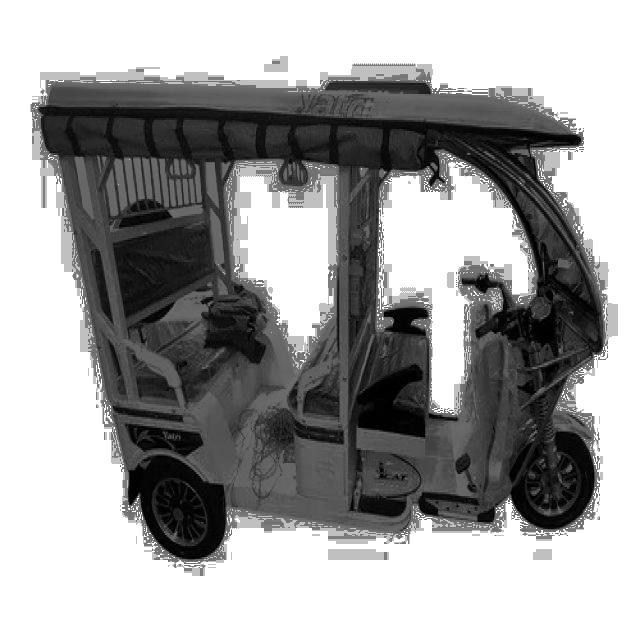Toto: (32, 72, 612, 570)
